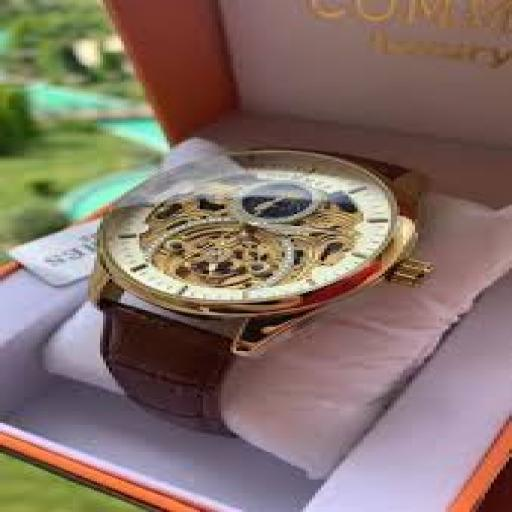KolSaati: (76, 101, 380, 427)
